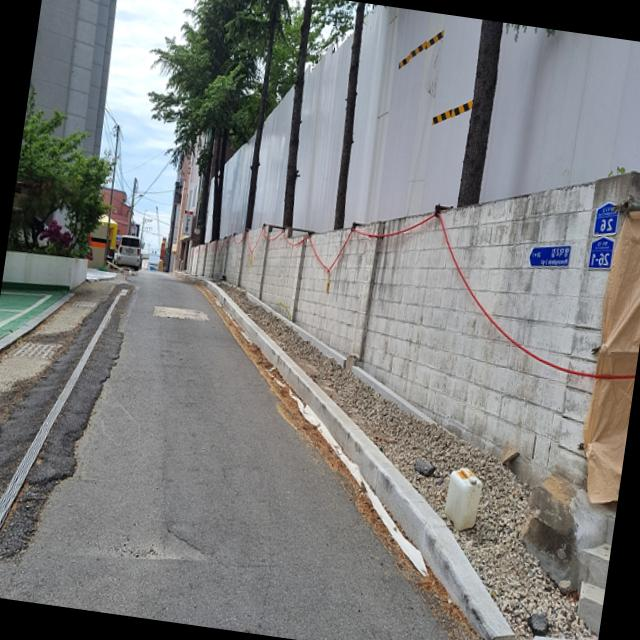asphalt: (0, 272, 450, 640)
cement: (188, 172, 640, 486), (20, 283, 110, 345), (2, 250, 90, 289), (0, 347, 50, 399)
rocks: (200, 277, 515, 640)
white-sand: (226, 287, 591, 640)
